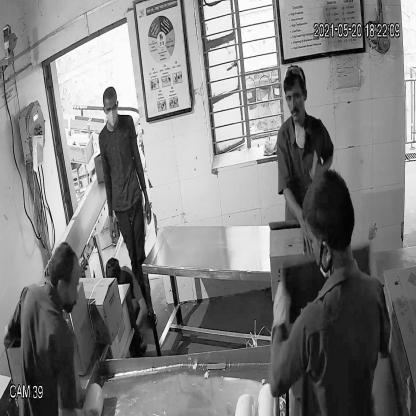no_goggles: (283, 88, 307, 107)
